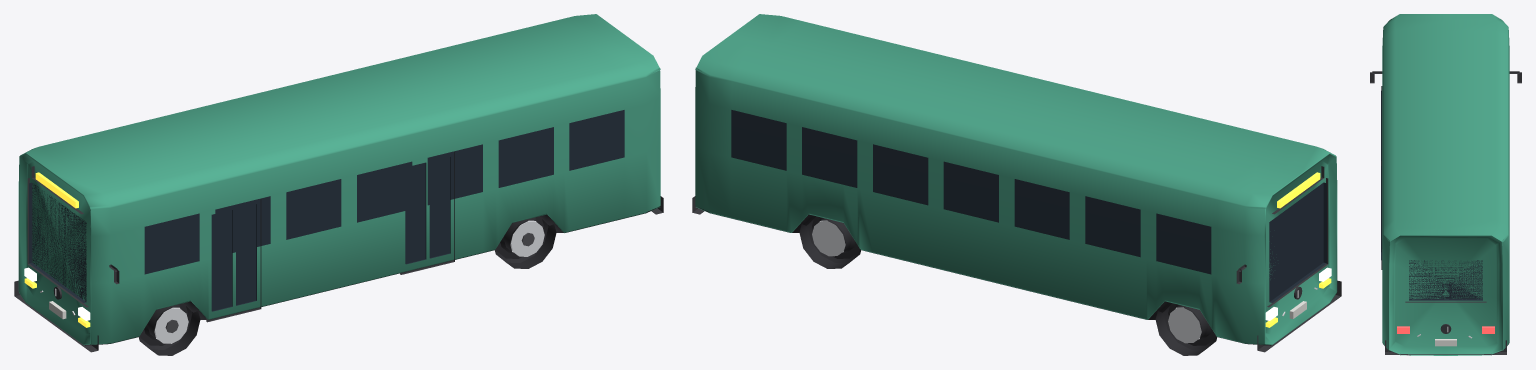
Rendered from bus_city.glb.
The picture shows the model from 3 angles, left to right: view 1: azimuth 30°, elevation 25°; view 2: azimuth 150°, elevation 25°; view 3: azimuth 270°, elevation 25°; orthographic projection. The views are drawn at different scales.
Size of the model in its own units: 1.9 by 0.5493 by 0.5475.
